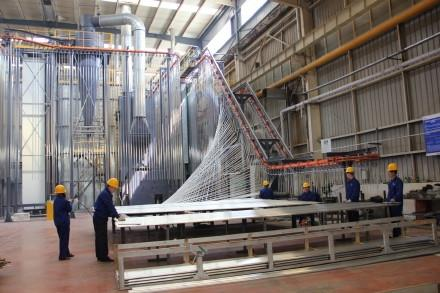helmet: (106, 177, 123, 187), (54, 183, 69, 194), (385, 162, 399, 171), (344, 165, 355, 173), (302, 182, 312, 187), (262, 180, 271, 185)
wear: (55, 197, 71, 229), (95, 191, 111, 223), (390, 178, 402, 205), (347, 179, 361, 199), (300, 191, 316, 201), (261, 187, 273, 199)
